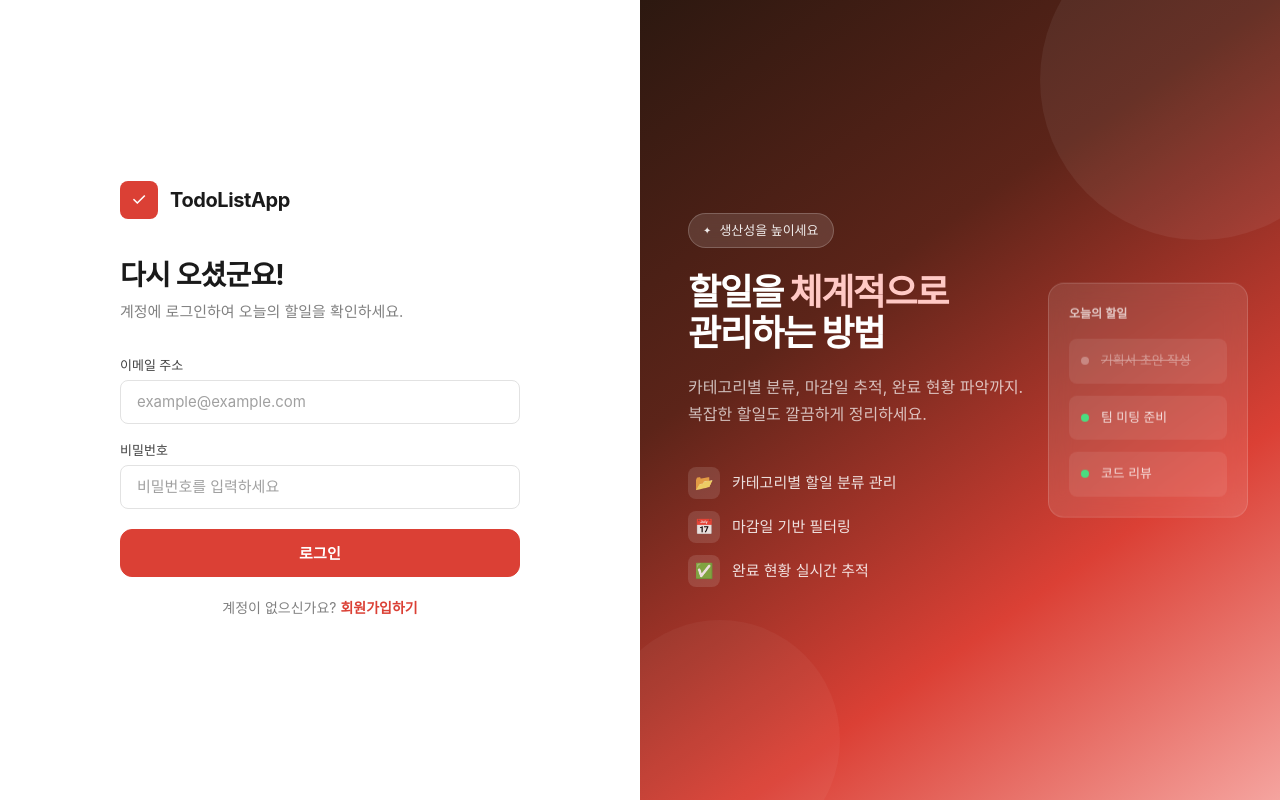
Test: LoginPage › 이메일 형식이 잘못된 경우 에러가 표시된다
The image size is (1280, 800).
Type "invalid-email" into the field with test id "email-input" at (320, 402), box [120, 380, 520, 424]
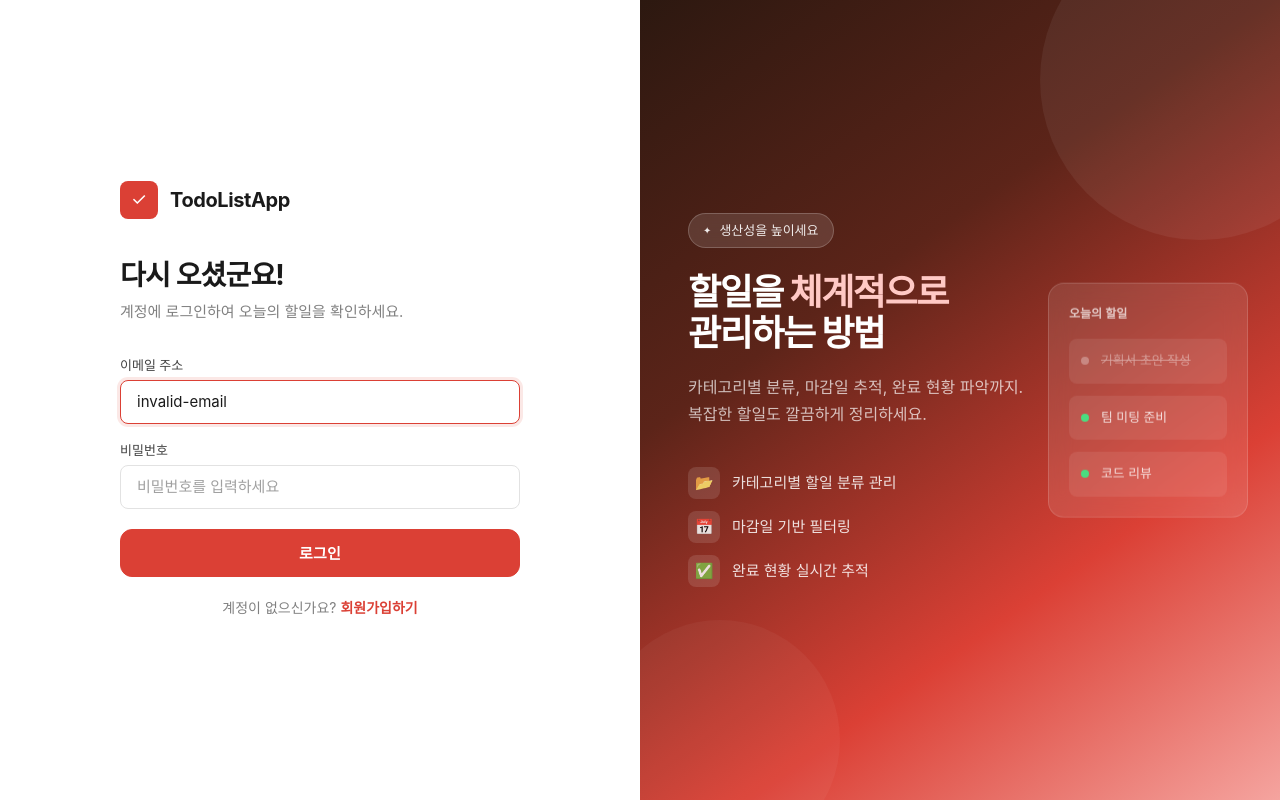
Type "password" into the password field with test id "password-input" at (320, 487), box [120, 465, 520, 509]
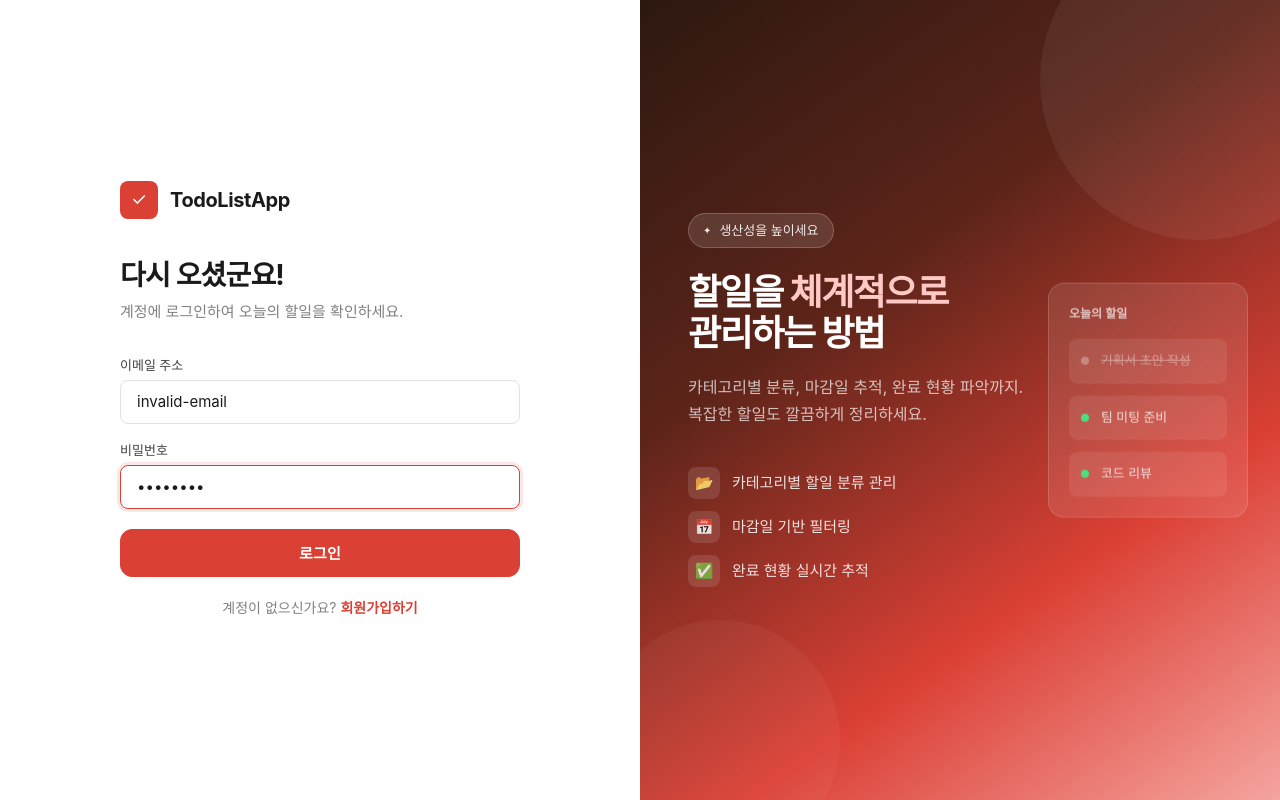
Click the button with test id "login-submit" at (320, 553), box [120, 529, 520, 577]
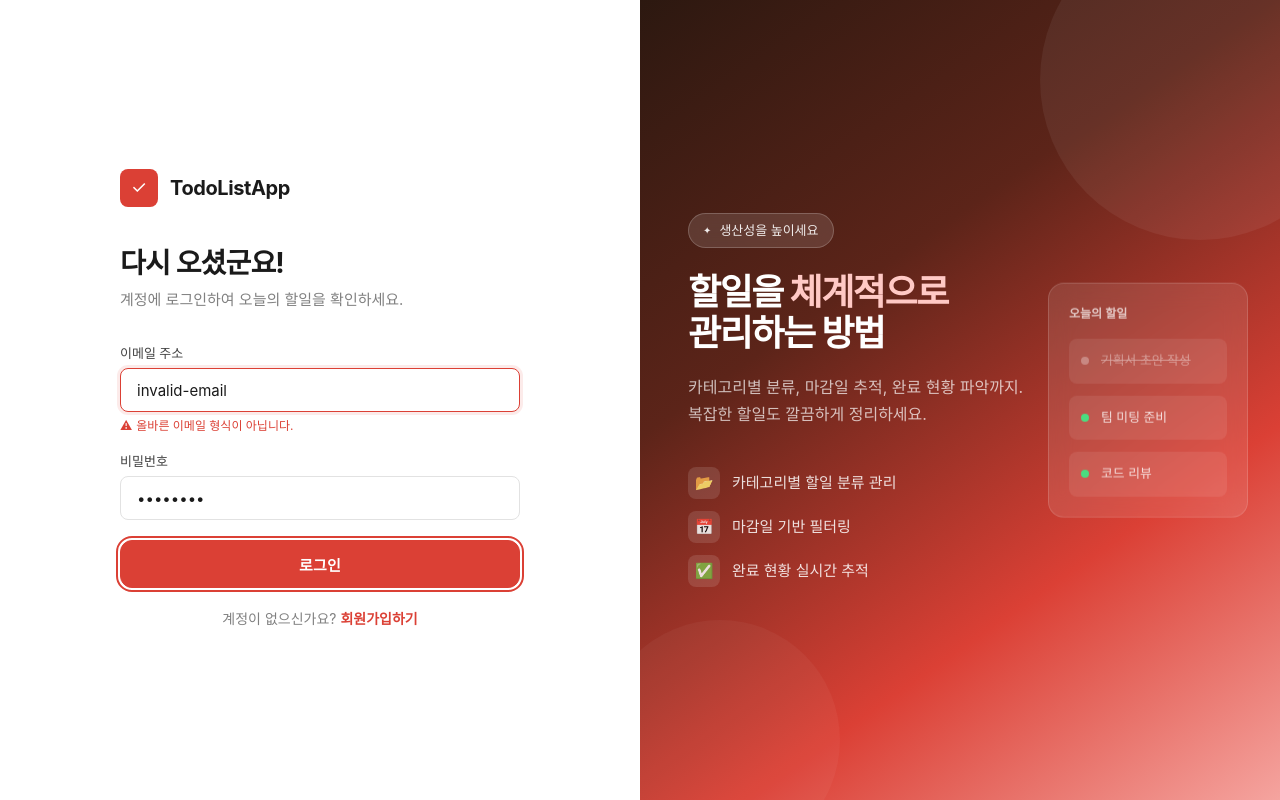
Expected: the message reads "올바른 이메일 형식이 아닙니다.", [136, 418, 293, 433]
